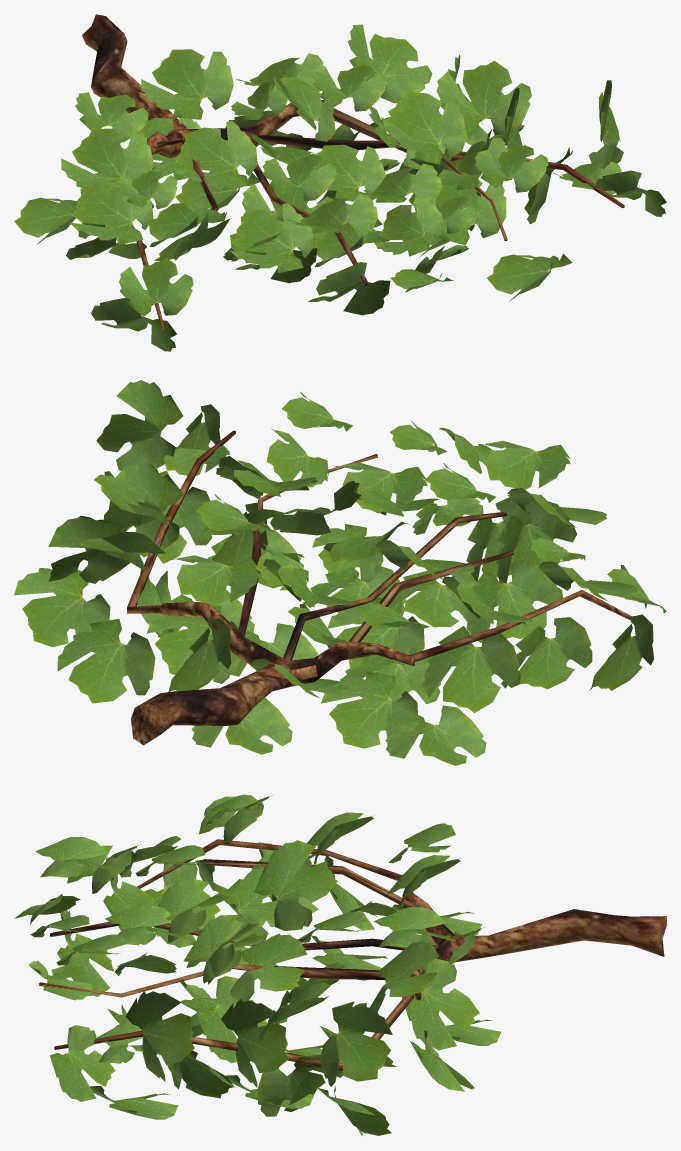
The model's file is vine_01.obj.
The picture shows the model from 3 angles, top to bottom: view 1: azimuth 30°, elevation 25°; view 2: azimuth 150°, elevation 25°; view 3: azimuth 270°, elevation 25°; orthographic projection. The views are drawn at different scales.
Parts seen in each view (by area): view 1: trunk.007, leaf.310, branches.004, leaf.358, leaf.331, leaf.334, leaf.309, leaf.333, leaf.359, leaf.328, leaf.306, leaf.304 (+37 smaller); view 2: trunk.007, branches.004, leaf.314, leaf.350, leaf.352, leaf.313, leaf.356, leaf.316, leaf.324, leaf.315, leaf.311, leaf.312 (+48 smaller); view 3: branches.004, trunk.007, leaf.307, leaf.312, leaf.347, leaf.356, leaf.311, leaf.300, leaf.346, leaf.355, leaf.359, leaf.330 (+39 smaller).
Part boxes in pixels (box(x1,y1,x2,y2)): trunk.007: box(82, 14, 324, 158); leaf.310: box(141, 49, 233, 119); branches.004: box(133, 108, 624, 330); leaf.358: box(436, 60, 531, 136); leaf.331: box(173, 120, 257, 190); leaf.334: box(229, 203, 313, 273); leaf.309: box(61, 128, 153, 194); leaf.333: box(69, 175, 153, 245); leaf.359: box(347, 24, 432, 103); leaf.328: box(381, 91, 466, 164); leaf.306: box(119, 258, 193, 316); leaf.304: box(374, 196, 443, 256); trunk.007: box(131, 602, 415, 745); branches.004: box(127, 430, 631, 661); leaf.314: box(57, 619, 155, 703); leaf.350: box(422, 626, 520, 712); leaf.352: box(321, 671, 418, 748); leaf.313: box(14, 568, 110, 647); leaf.356: box(96, 380, 183, 470); leaf.316: box(464, 559, 562, 642); leaf.324: box(501, 617, 592, 689); leaf.315: box(385, 705, 486, 765); leaf.311: box(103, 463, 183, 557); leaf.312: box(48, 515, 130, 583); branches.004: box(39, 839, 439, 1070); trunk.007: box(402, 890, 666, 1000); leaf.307: box(254, 840, 337, 930); leaf.312: box(319, 1001, 392, 1086); leaf.347: box(402, 958, 479, 1050); leaf.356: box(125, 991, 194, 1081); leaf.311: box(221, 999, 288, 1087); leaf.300: box(230, 933, 307, 1002); leaf.346: box(50, 1025, 115, 1101); leaf.355: box(257, 1054, 342, 1116); leaf.359: box(369, 941, 439, 1012); leaf.330: box(158, 878, 230, 943).
Size of the model in its own units: 1.5 by 0.5297 by 1.62.
2 materials, 2 textured.
